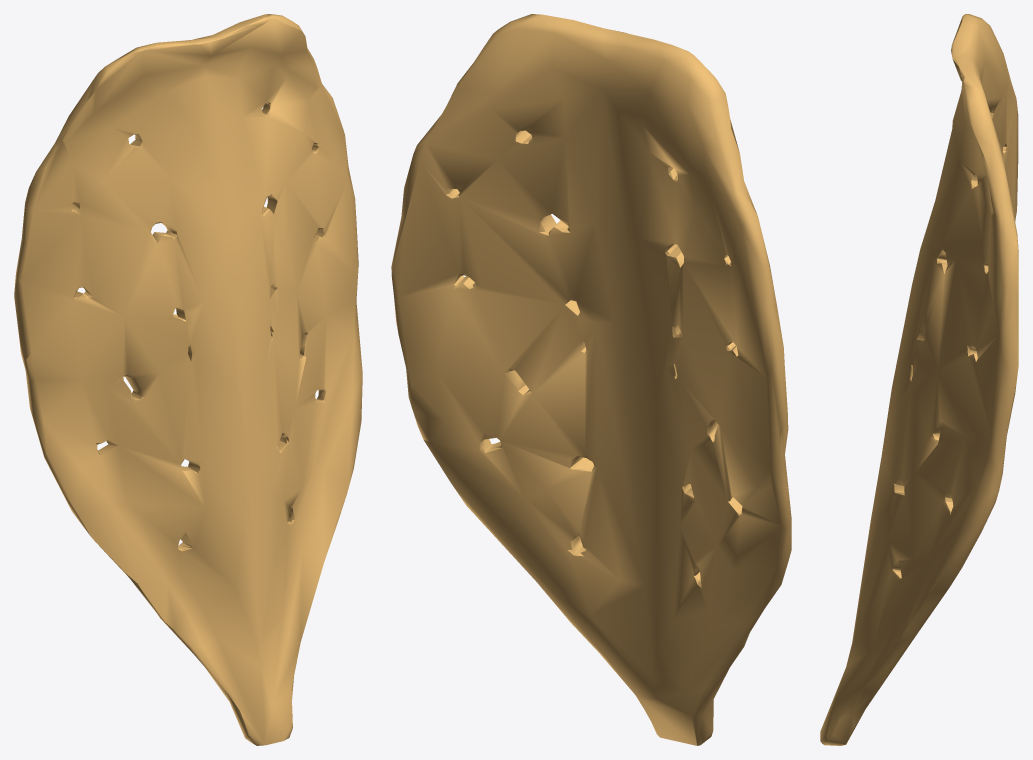
The model's file is epiglote.glb.
3 renders of one model, left to right at view 1: azimuth 30°, elevation 25°; view 2: azimuth 150°, elevation 25°; view 3: azimuth 270°, elevation 25°, orthographic. The views are drawn at different scales.
Parts seen in each view (by area): view 1: epiglote; view 2: epiglote; view 3: epiglote.
Boxes of the visible parts, x1,y1,x2,y2 form: epiglote: [14, 14, 362, 745]; epiglote: [391, 14, 791, 745]; epiglote: [820, 14, 1018, 745].
Size of the model in its own units: 0.0158 by 0.0295 by 0.00767.
